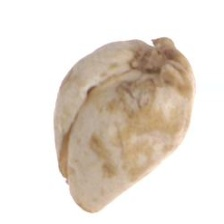L1: (56, 134, 96, 213), (133, 35, 172, 77)
L2: (54, 37, 194, 214)
